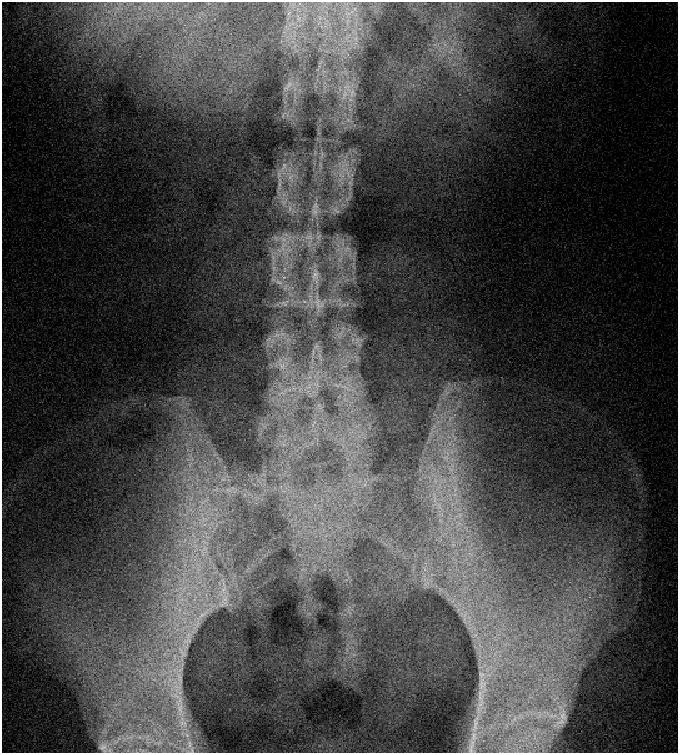lumbar scoliosis: (254, 47, 382, 495)
